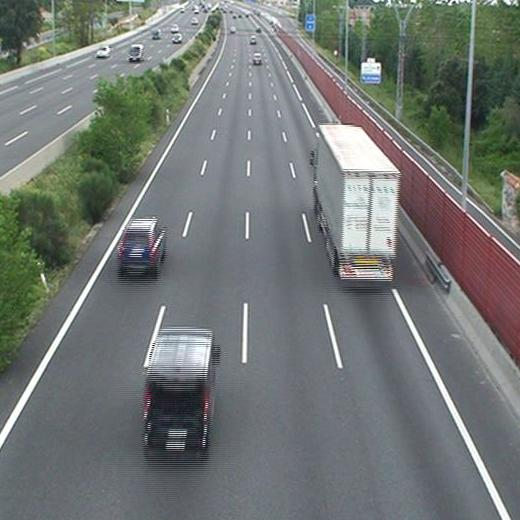car: (119, 219, 163, 271), (252, 53, 261, 66)
truck: (313, 124, 400, 278)
van: (145, 332, 216, 451)
